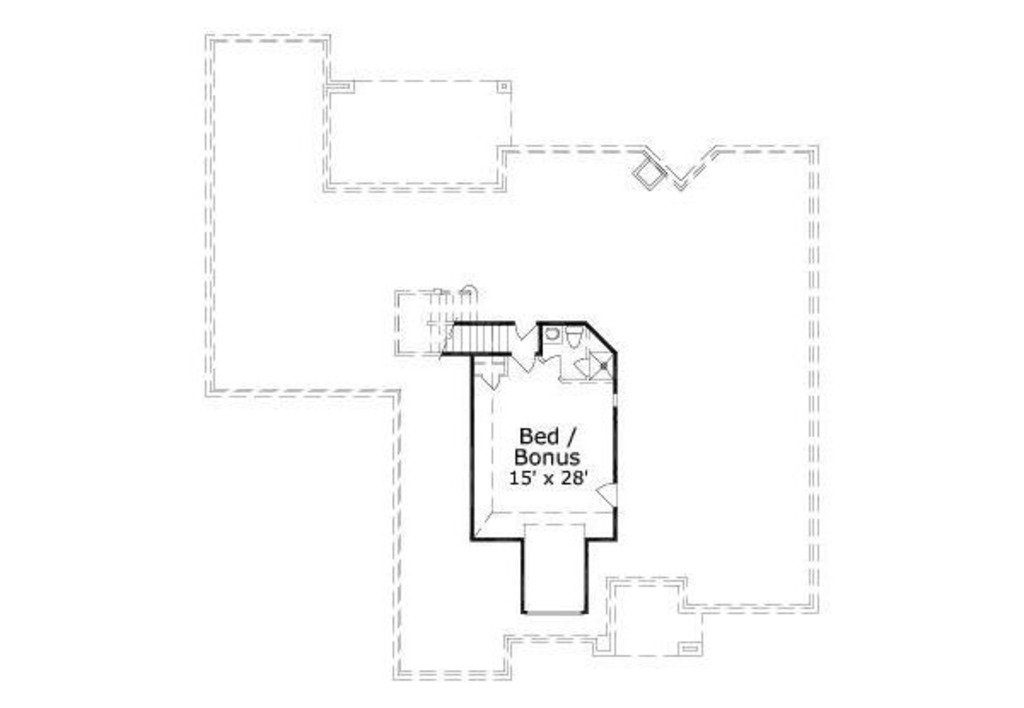door: (582, 477, 628, 507), (500, 348, 539, 373), (507, 317, 540, 343), (474, 370, 506, 393), (539, 351, 561, 381)
large_sink: (557, 328, 579, 348)
small_sink: (543, 325, 560, 341)
stairs: (391, 273, 509, 355)
